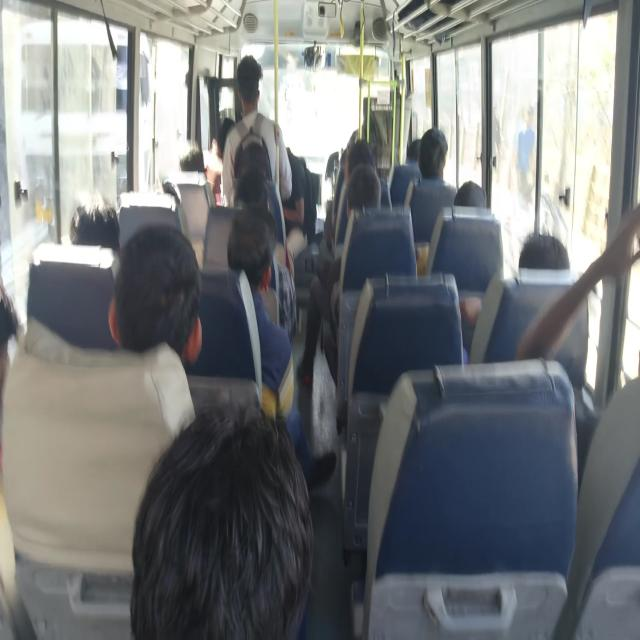person: (129, 405, 314, 639), (226, 206, 336, 490), (296, 164, 381, 387), (227, 207, 295, 421), (108, 222, 203, 368), (220, 54, 292, 210), (408, 126, 456, 244), (69, 195, 120, 251), (514, 103, 536, 206), (518, 232, 570, 270), (418, 126, 448, 182), (453, 180, 487, 208)
